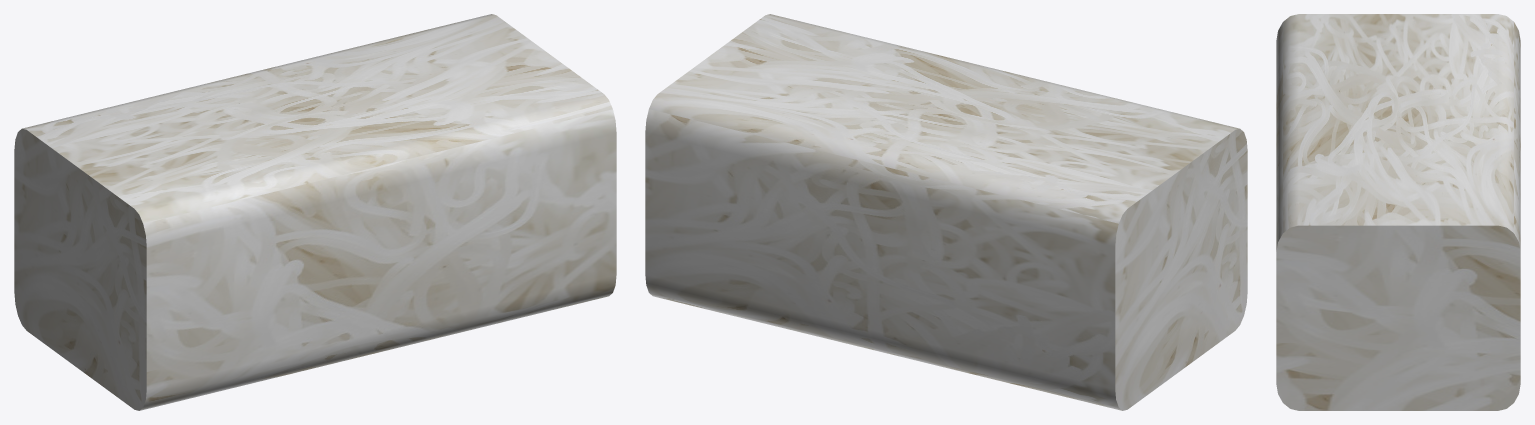
Rendered from bun.fbx.
The picture shows the model from 3 angles, left to right: view 1: azimuth 30°, elevation 25°; view 2: azimuth 150°, elevation 25°; view 3: azimuth 270°, elevation 25°; orthographic projection. The views are drawn at different scales.
Visible parts, largest first — view 1: bun la; view 2: bun la; view 3: bun la.
Part boxes in pixels (bbox=[...]): bun la: bbox=[14, 14, 616, 410]; bun la: bbox=[645, 14, 1247, 410]; bun la: bbox=[1276, 14, 1520, 410].
Size of the model in its own units: 7.97 by 3.26 by 3.89.
1 material, 1 textured.
